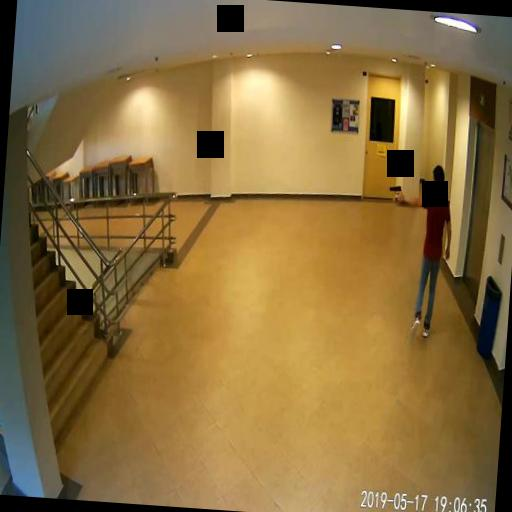Handgun: (388, 183, 402, 200)
